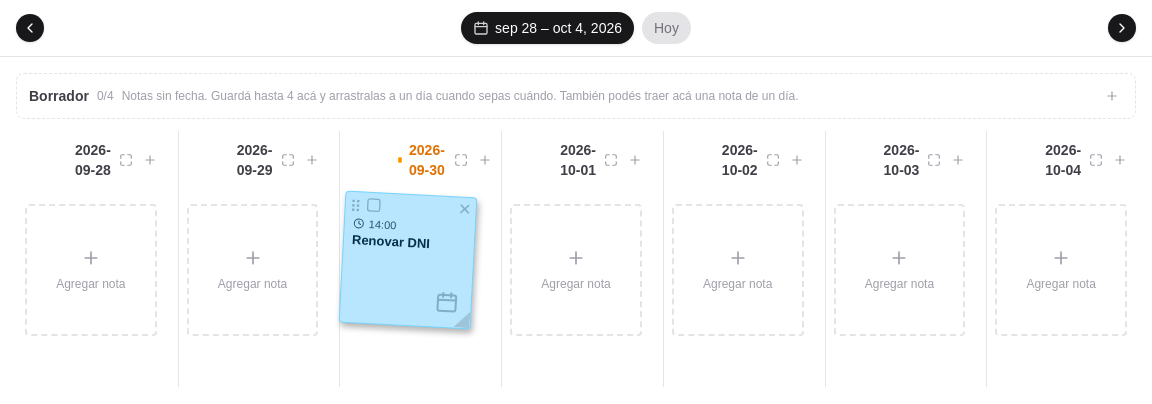
Test: Board › showing changes before the server answers › can toggle a note twice in a row before the server answers
Click the button named "Marcar como hecha": (374, 205) [366,197,382,214]
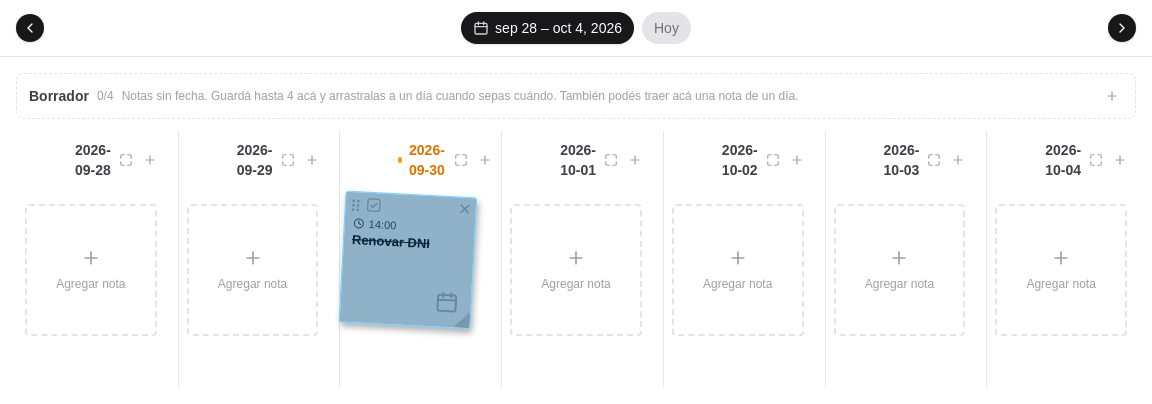
Click the button named "Marcar como pendiente": (374, 205) [366,197,382,214]
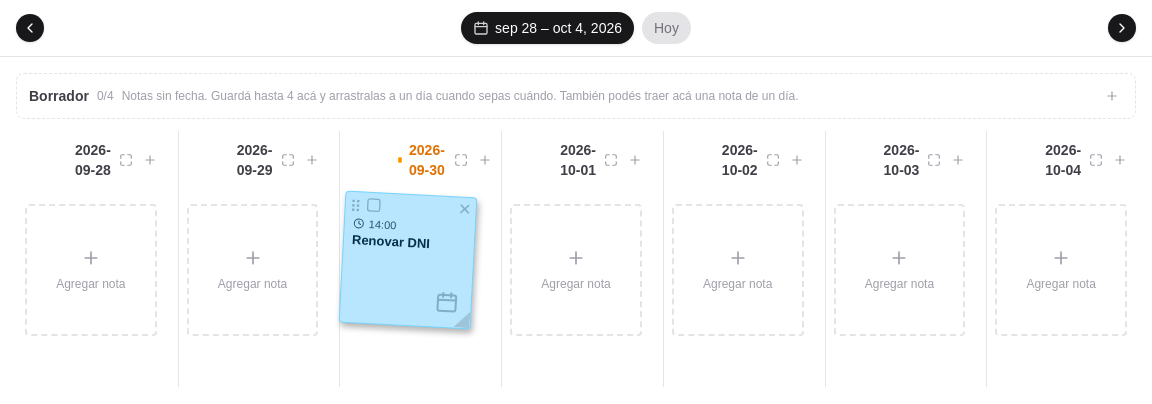
Now the button named "Marcar como hecha" is shown, box [366,197,382,214]
